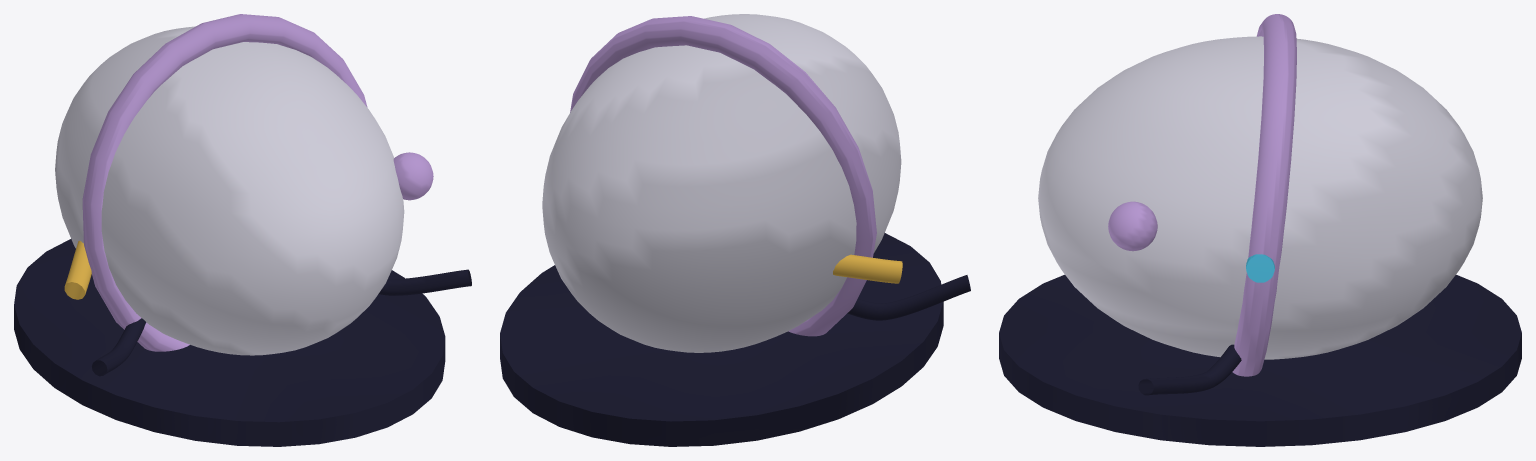
The model's file is 1217_细胞图鉴_内质网.glb.
3 renders of one model, left to right at view 1: azimuth 30°, elevation 25°; view 2: azimuth 150°, elevation 25°; view 3: azimuth 270°, elevation 25°, orthographic. The views are drawn at different scales.
Parts seen in each view (by area): view 1: card_1217; view 2: card_1217; view 3: card_1217.
Part boxes in pixels (<box>): card_1217: <box>14,14,471,446</box>; card_1217: <box>500,14,970,446</box>; card_1217: <box>999,14,1521,446</box>.
Size of the model in its own units: 1.21 by 1 by 1.4.
